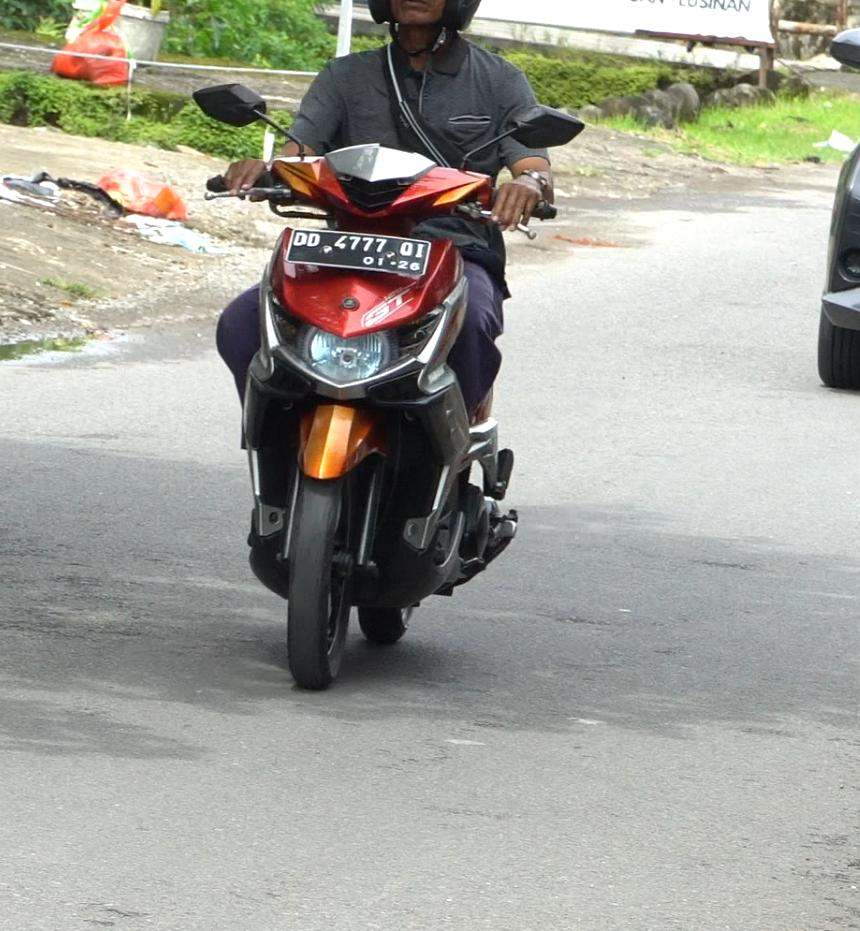number-plate: (287, 225, 431, 279)
